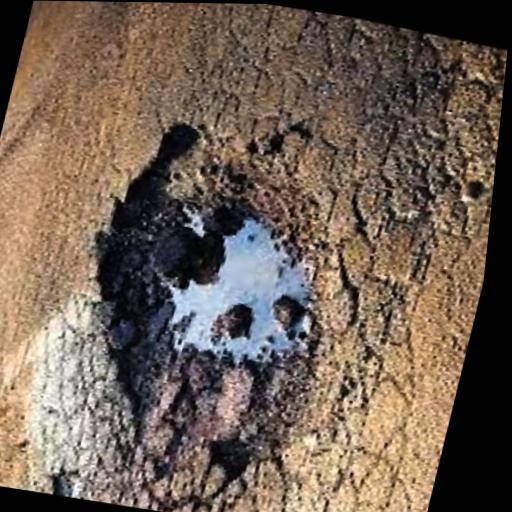pothole: (100, 123, 316, 483)
